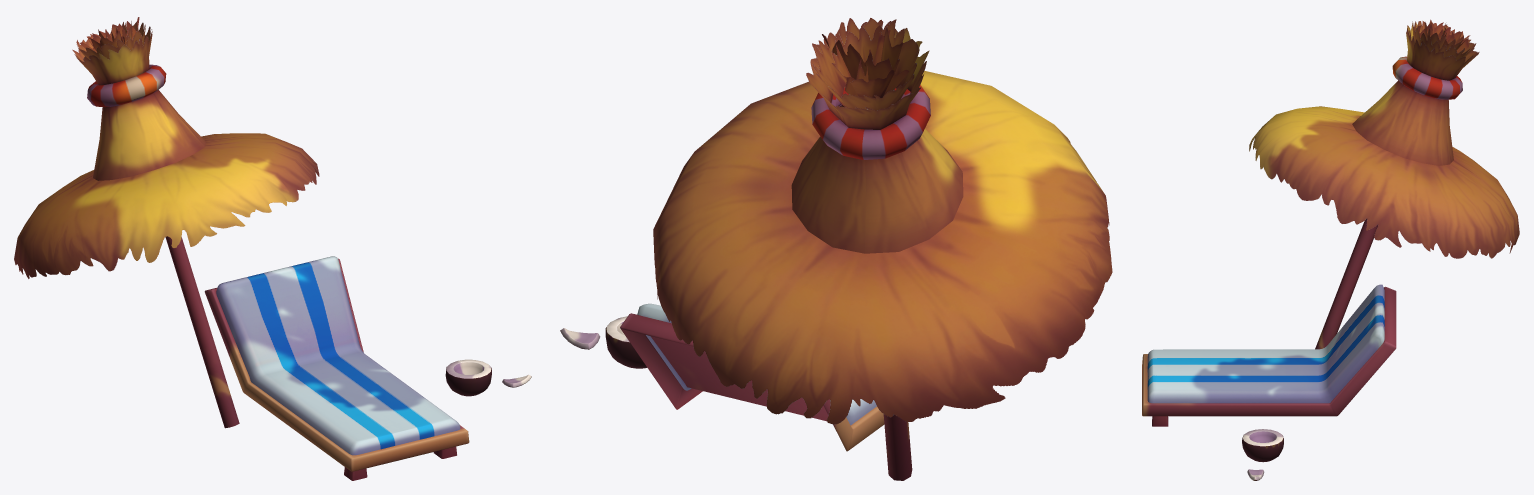
The model's file is wujian.FBX.
3 views of the same model, side by side, from view 1: azimuth 30°, elevation 25°; view 2: azimuth 150°, elevation 25°; view 3: azimuth 270°, elevation 25° (orthographic). The views are drawn at different scales.
Visible parts, largest first — view 1: xiaowujian; view 2: xiaowujian; view 3: xiaowujian.
Part boxes in pixels (x1,y1,x2,y2): xiaowujian: [14, 17, 531, 480]; xiaowujian: [560, 18, 1112, 480]; xiaowujian: [1142, 19, 1519, 480].
Bounding box in the file's own units: 689 × 569 × 583.
